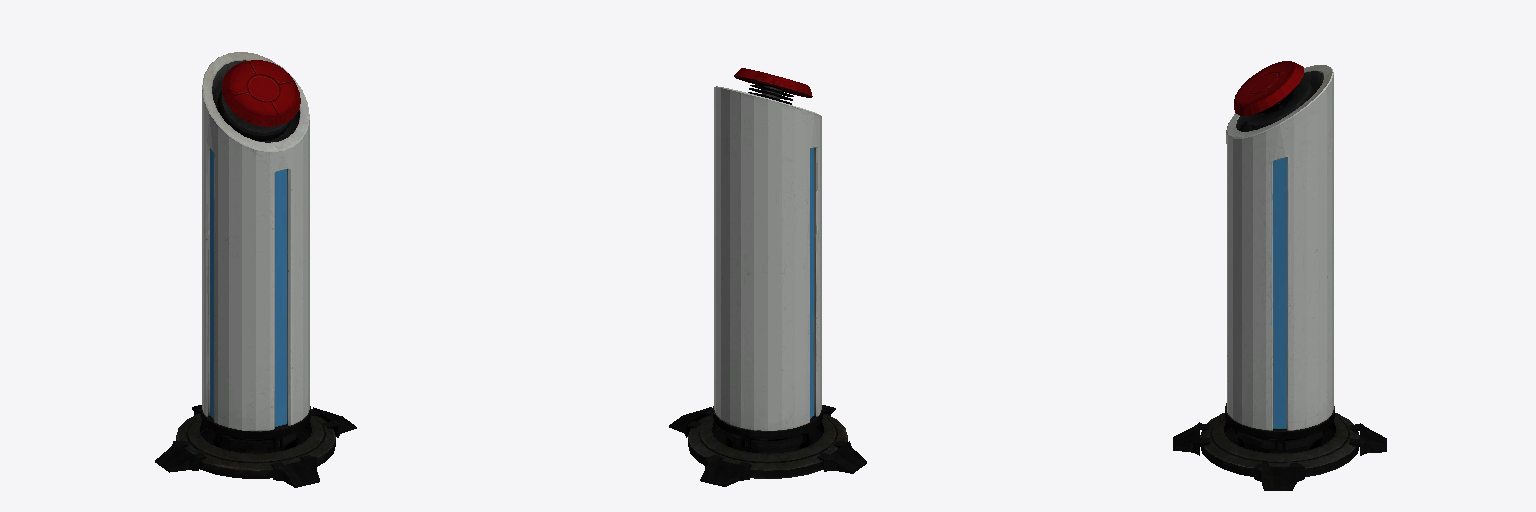
3 renders of one model, left to right at view 1: azimuth 30°, elevation 25°; view 2: azimuth 150°, elevation 25°; view 3: azimuth 270°, elevation 25°, orthographic.
Parts seen in each view (by area): view 1: g0; view 2: g0; view 3: g0.
Part boxes in pixels (bbox=[...]): g0: bbox=[155, 52, 356, 487]; g0: bbox=[669, 68, 866, 486]; g0: bbox=[1173, 61, 1386, 490].
Size of the model in its own units: 24 by 46.72 by 24.
Materials: 1 (1 with a texture image).